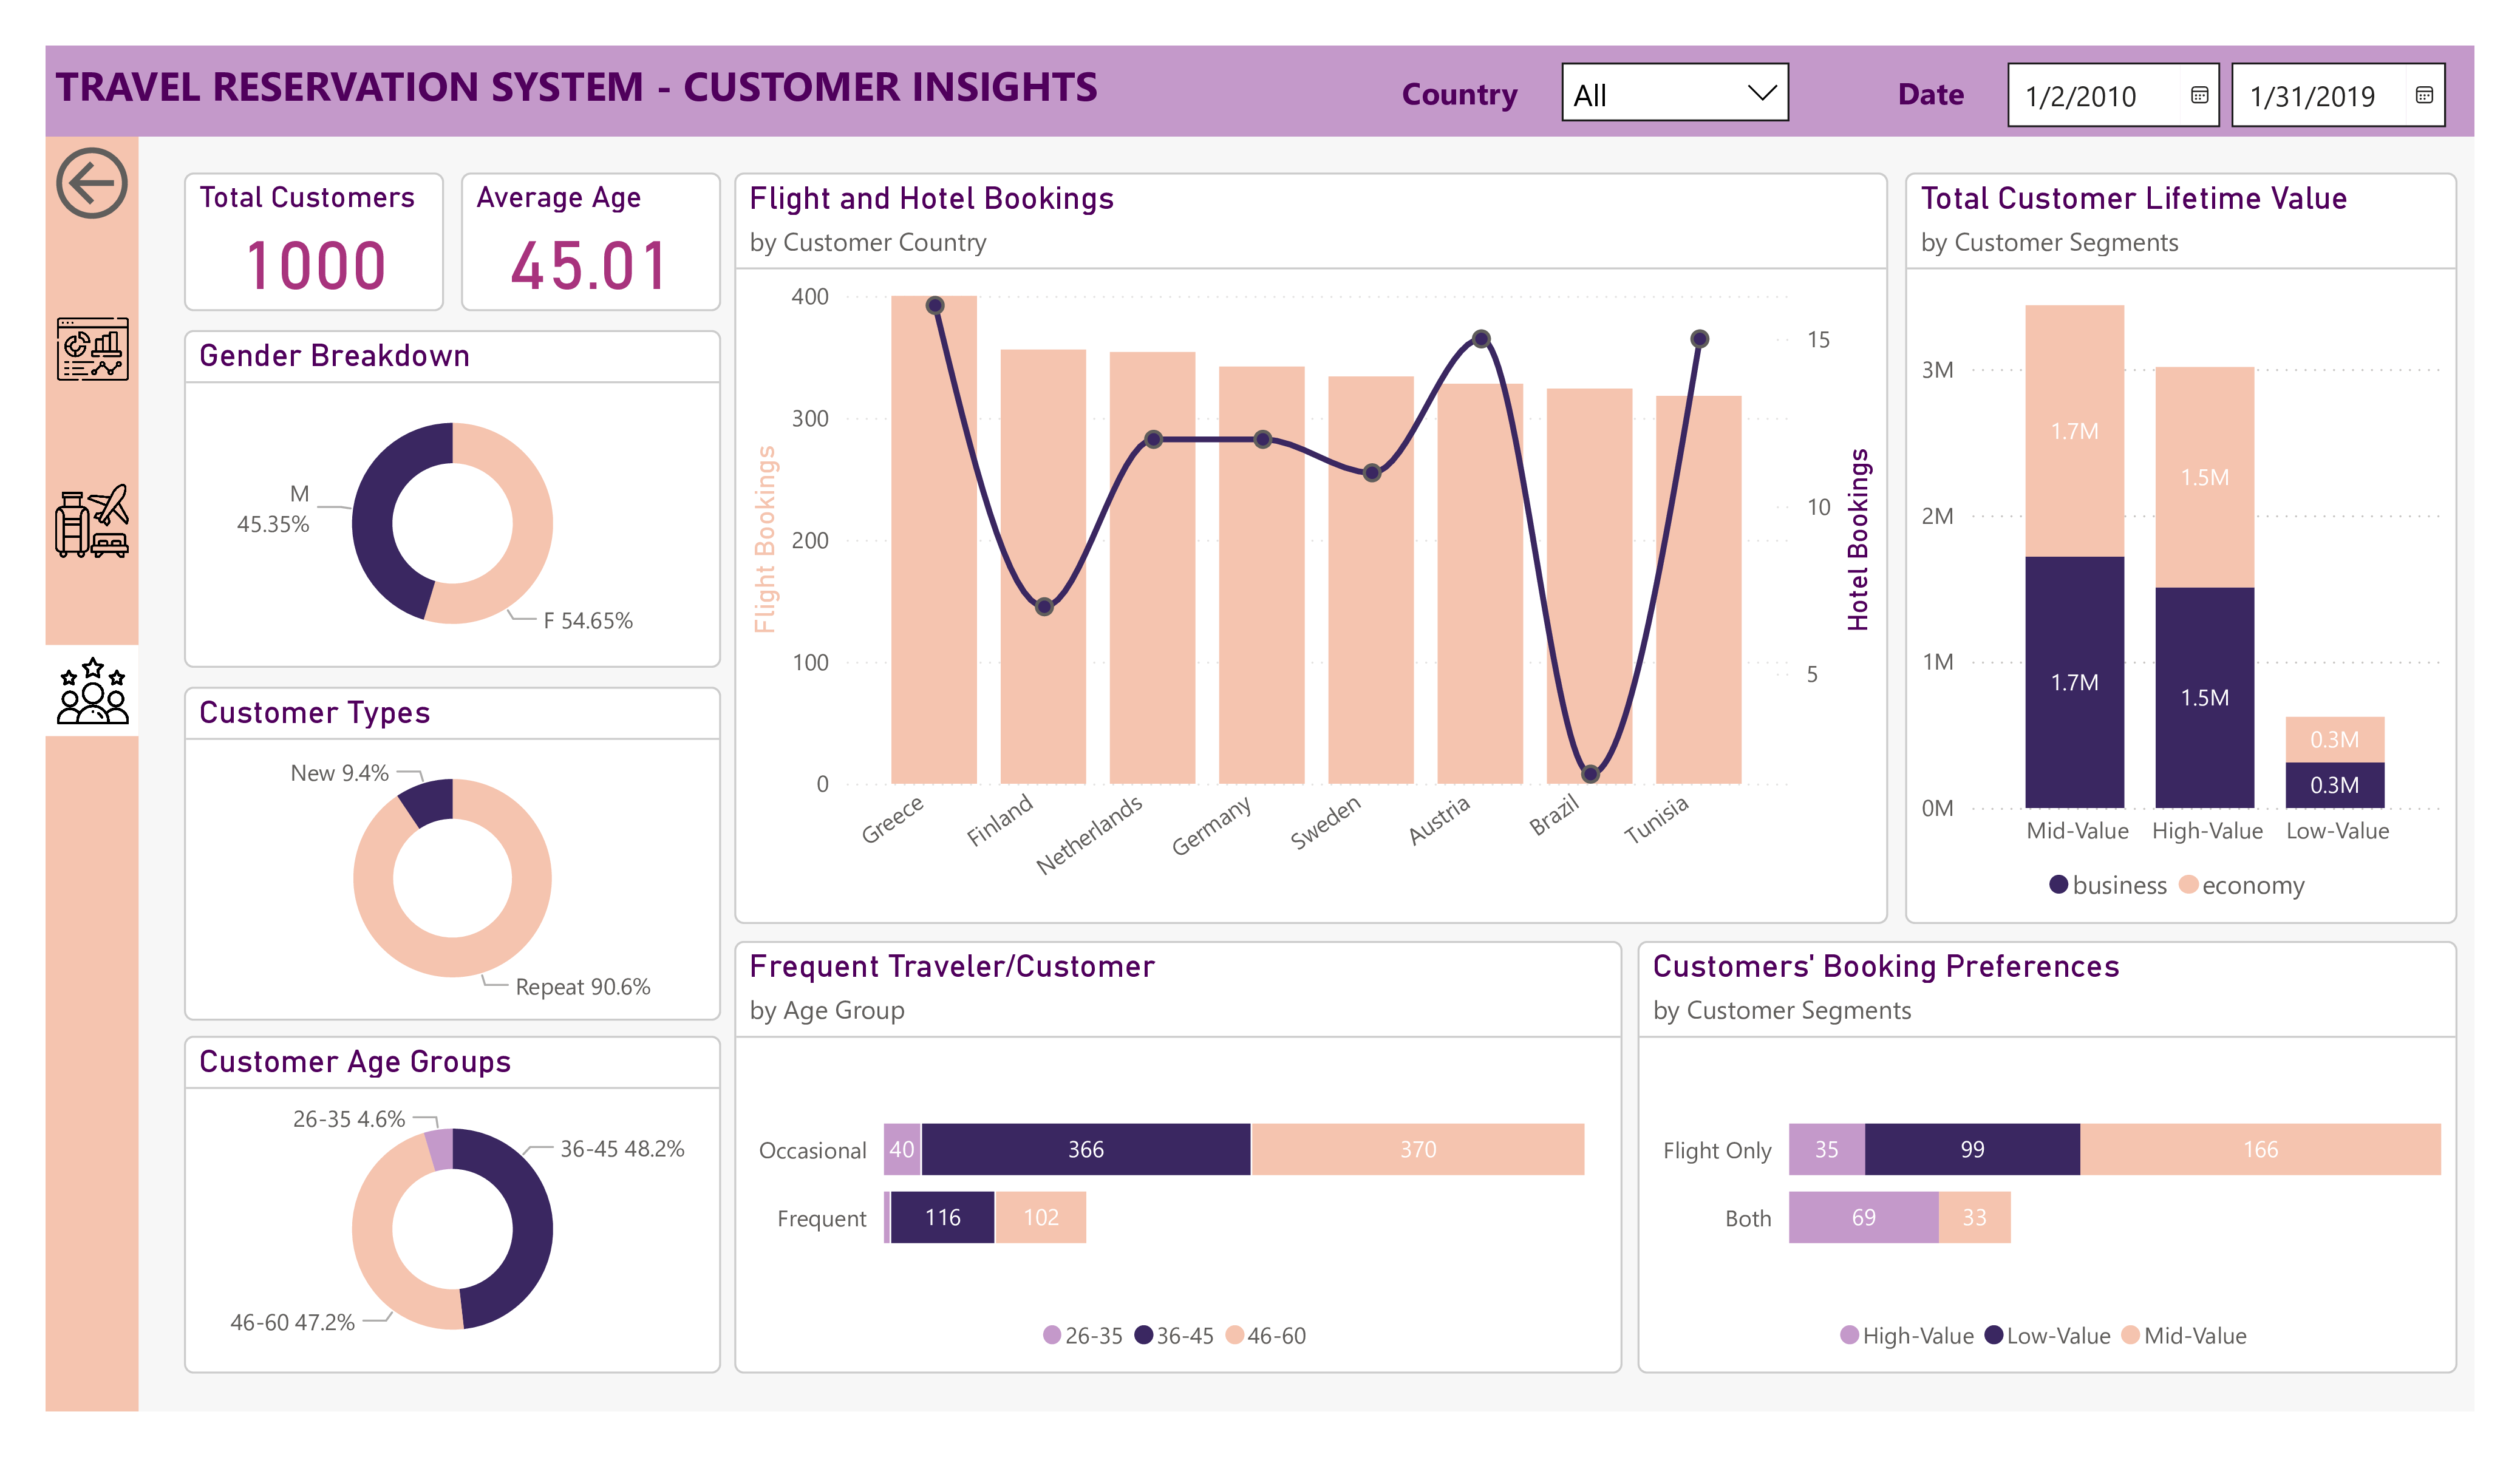

The dashboard page shown, as its layout file describes it:
{"tool":"powerbi","page":{"name":"Customer","canvas":[1280,720],"ordinal":2},"visuals":[{"type":"card","title":"Total Customers","fields":{"Values":["Count(customers.customer_id)"]},"box":[96,66.9,136.7,72.7],"z":0},{"type":"shape","box":[0,0,1280,48],"z":1000},{"type":"donutChart","title":"Gender Breakdown","fields":{"Y":["CountNonNull(flight_bookings.trip_id)"],"Category":["customers.customer_gender"]},"box":[96,149.8,290.9,177.5],"z":2000},{"type":"lineClusteredColumnComboChart","fields":{"Category":["customers.customer_country"],"Y":["CountNonNull(flight_bookings.trip_id)"],"Y2":["CountNonNull(hotel_bookings.trip_id)"]},"box":[426.2,66.9,545.5,392.7],"z":3000},{"type":"donutChart","title":"Customer Age Groups","fields":{"Category":["customers.AgeGroup"],"Y":["CountNonNull(customers.customer_id)"]},"box":[96,522.2,290.9,177.5],"z":4000},{"type":"card","title":"Average Age","fields":{"Values":["Avg(customers.CustomerAge)"]},"box":[250.2,66.9,136.7,72.7],"z":5000},{"type":"donutChart","title":"Repeat vs New Customers","fields":{"Category":["customers.customer_type"],"Y":["CountNonNull(customers.customer_id)"]},"box":[96,337.5,290.9,177.5],"z":6000},{"type":"barChart","title":"Frequent Traveler by Age Group","fields":{"Category":["customers.frequent_traveler"],"Y":["CountNonNull(customers.booking_preference)"],"Series":["customers.age_group"]},"box":[426.2,488.7,414.5,210.9],"z":7000},{"type":"barChart","title":"Customer Segments by Booking Preferences","fields":{"Category":["customers.booking_preference"],"Y":["CountNonNull(customers.customer_id)"],"Series":["customers.customer_value_segment"]},"box":[869.8,488.7,379.6,210.9],"z":8000},{"type":"columnChart","title":"CLV by Customer Segments","fields":{"Category":["customers.customer_value_segment"],"Y":["Sum(customers.customer_lifetime_value)"],"Series":["flight_bookings.travel_class"]},"box":[1005.1,66.9,245.8,392.7],"z":9000}]}

Visuals, with their boxes on the page's 1280x720 design canvas (x1, y1, x2, y2). These are canvas units, not pixel positions in the 2520x1457 screenshot, which may show the page scaled, cropped or inside an application window:
"Total Customers" card: box(96, 67, 233, 140)
shape: box(0, 0, 1280, 48)
"Gender Breakdown" donutChart: box(96, 150, 387, 327)
lineClusteredColumnComboChart - customers.customer_country x CountNonNull(flight_bookings.trip_id): box(426, 67, 972, 460)
"Customer Age Groups" donutChart: box(96, 522, 387, 700)
"Average Age" card: box(250, 67, 387, 140)
"Repeat vs New Customers" donutChart: box(96, 338, 387, 515)
"Frequent Traveler by Age Group" barChart: box(426, 489, 841, 700)
"Customer Segments by Booking Preferences" barChart: box(870, 489, 1249, 700)
"CLV by Customer Segments" columnChart: box(1005, 67, 1251, 460)
